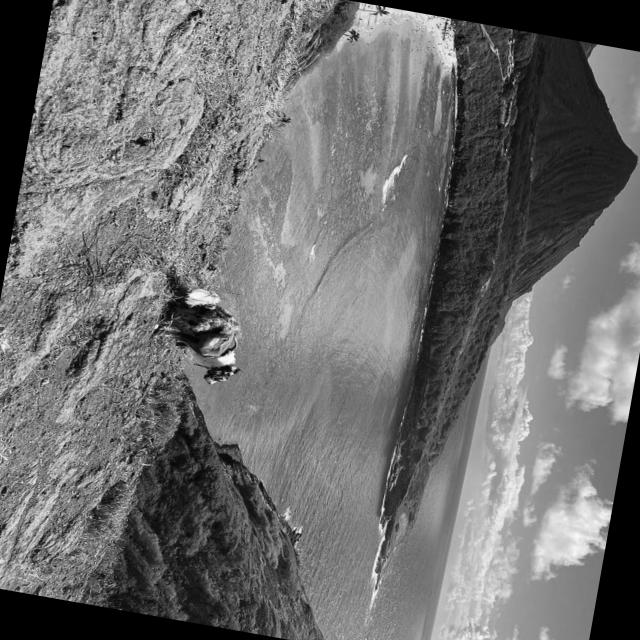squatting: (142, 276, 259, 392)
